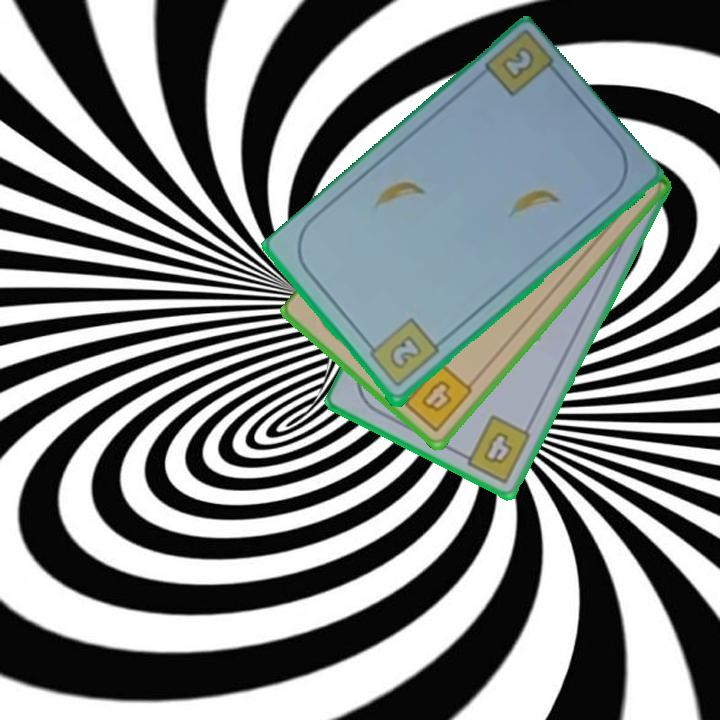2b: (362, 315, 442, 391), (497, 43, 538, 83)
4b: (394, 358, 476, 435), (454, 412, 534, 487)
